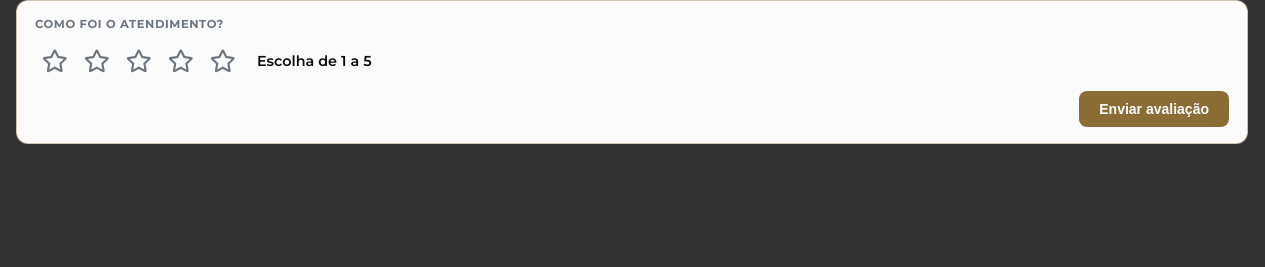
Test: Avaliação do atendimento › botão só habilita depois de escolher a nota
This screenshot has width=1265, height=267.
Expected: the button "Enviar avaliação" is disabled, x1=1079 y1=91 x2=1229 y2=127
Expected: the field labelled "Quer contar mais" is not shown
Click the radio button named "4 de 5 — Bom" at (181, 61), box x1=161 y1=41 x2=201 y2=81
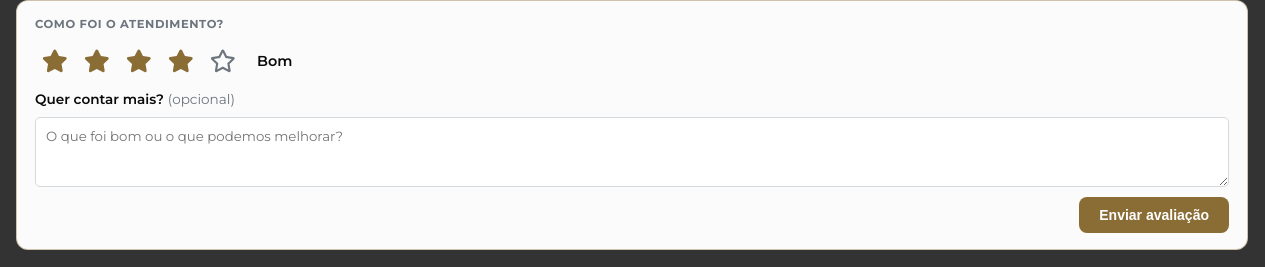
Result: the button "Enviar avaliação" is enabled at x1=1079 y1=197 x2=1229 y2=233
Result: the text "Bom" is shown at x1=257 y1=52 x2=292 y2=70
Result: the text box labelled "Quer contar mais? (opcional)" is shown at x1=35 y1=117 x2=1229 y2=187
